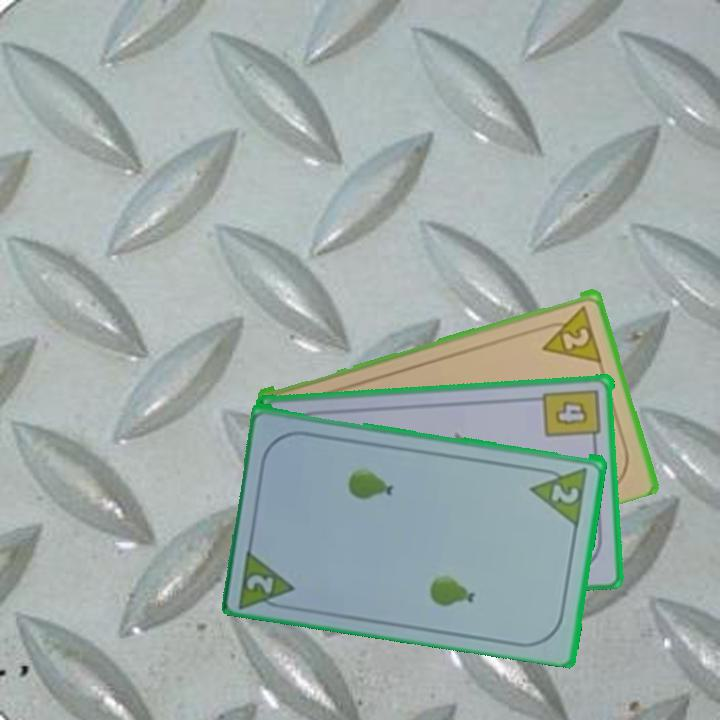2p: (534, 301, 605, 365), (235, 543, 299, 612), (548, 480, 582, 506)
4b: (541, 385, 604, 448)
